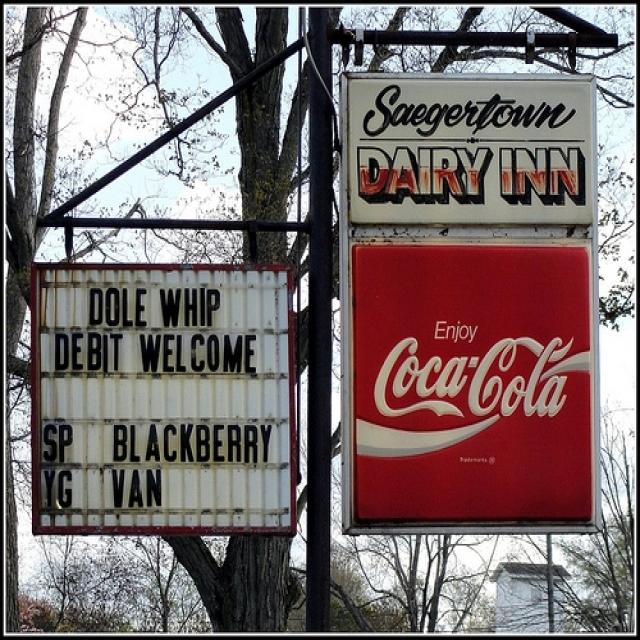cocacola: (356, 327, 596, 425)
